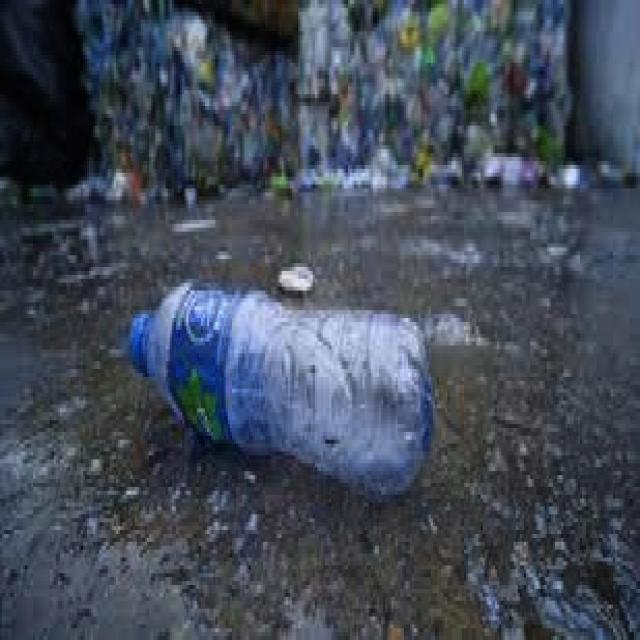bottle: (128, 280, 438, 496)
